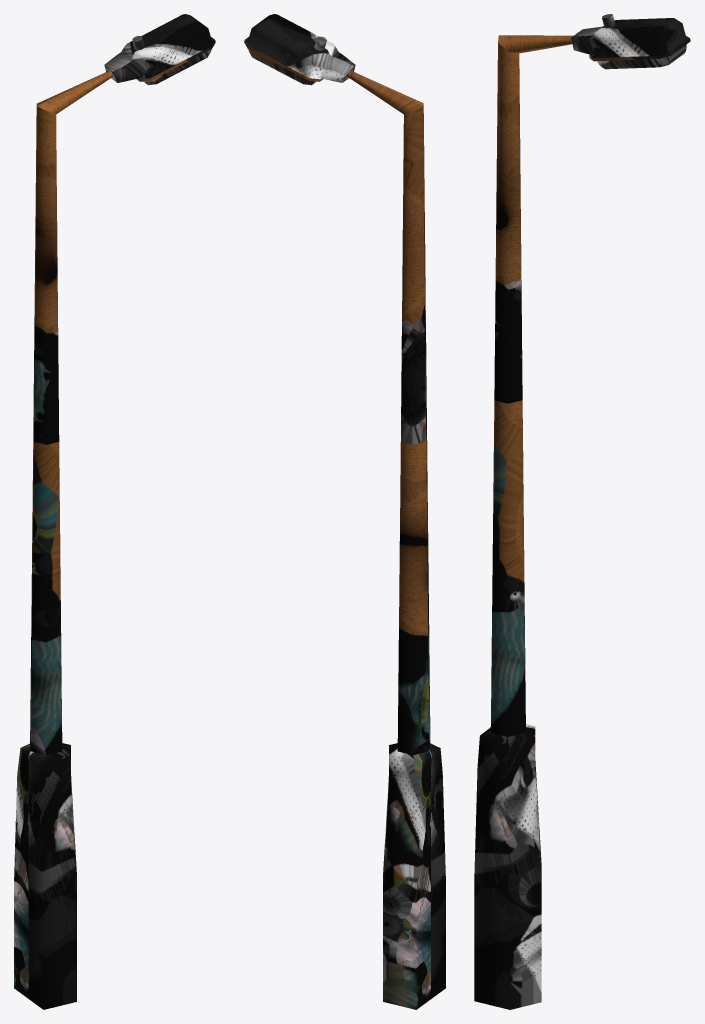
File: SM_PRP_Lampost_A_02.fbx
The picture shows the model from 3 angles, left to right: view 1: azimuth 30°, elevation 25°; view 2: azimuth 150°, elevation 25°; view 3: azimuth 330°, elevation 25°; orthographic projection. The views are drawn at different scales.
Parts seen in each view (by area): view 1: Box020; view 2: Box020; view 3: Box020.
Boxes of the visible parts, bbox=[...] form: Box020: bbox=[14, 14, 215, 1009]; Box020: bbox=[244, 14, 445, 1009]; Box020: bbox=[474, 14, 690, 1009].
Bounding box in the file's own units: 117 × 33.68 × 592.
